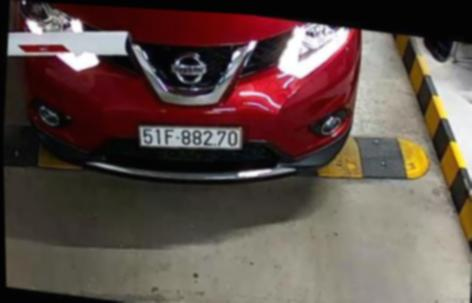License_Plate: (124, 112, 255, 161)
